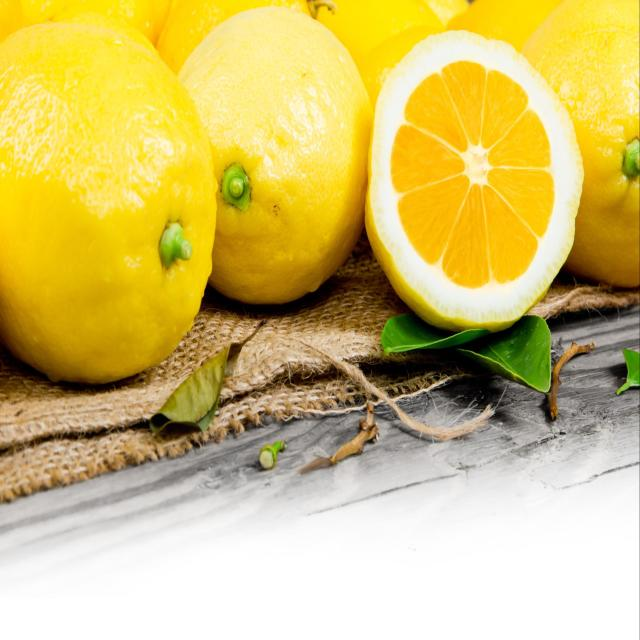lemon: (360, 26, 588, 333)
